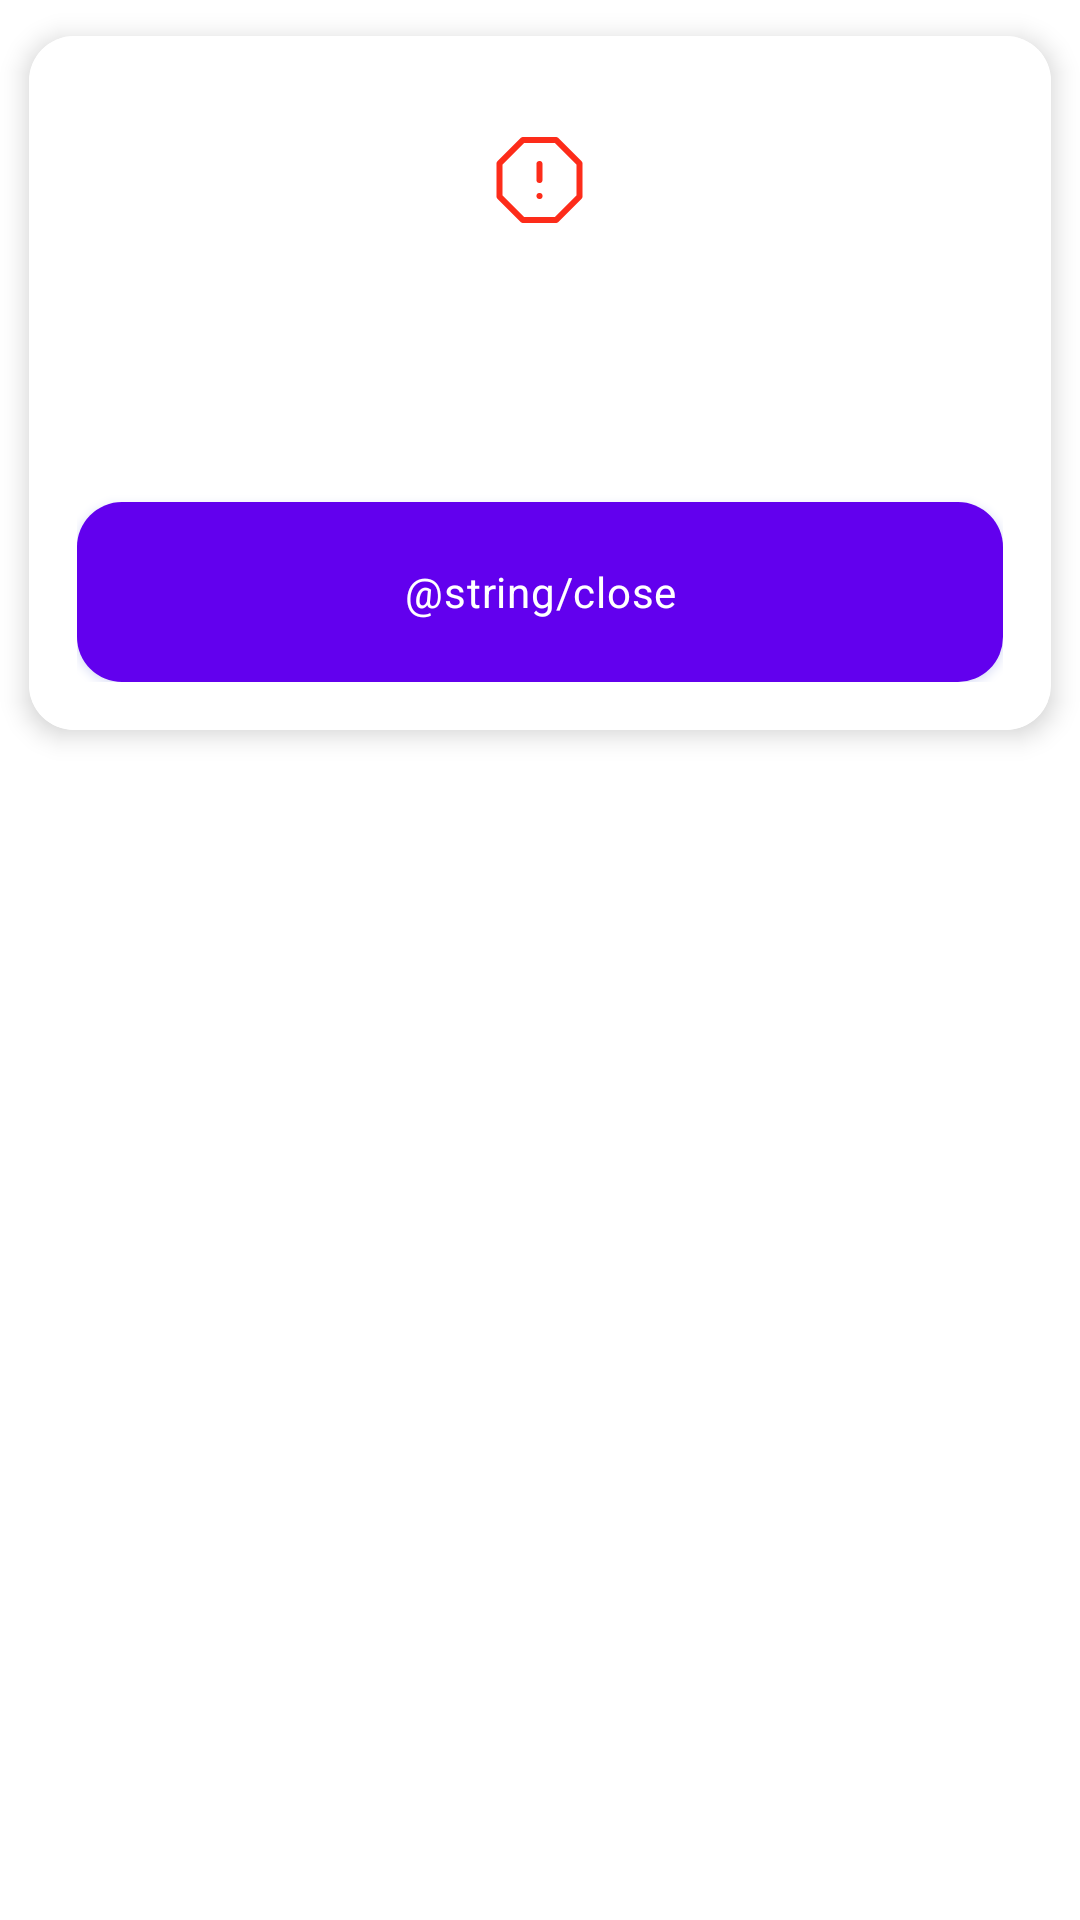

Point at icon controls on the screen. Image size 1080×1920, points as (x,y).
error: (539,180)
